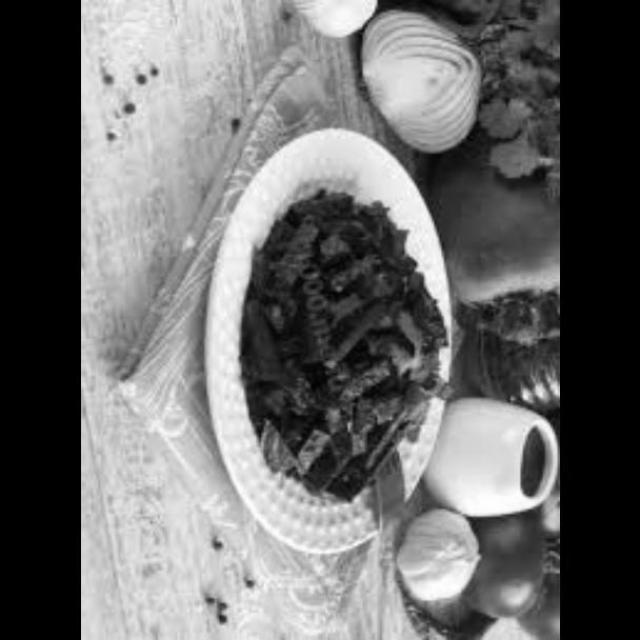ca chua: (476, 477, 560, 639)
cu cai duong: (248, 187, 455, 503), (429, 164, 560, 345)
cu hanh: (359, 0, 510, 160)
cu toi: (394, 504, 492, 612), (290, 0, 409, 42)
